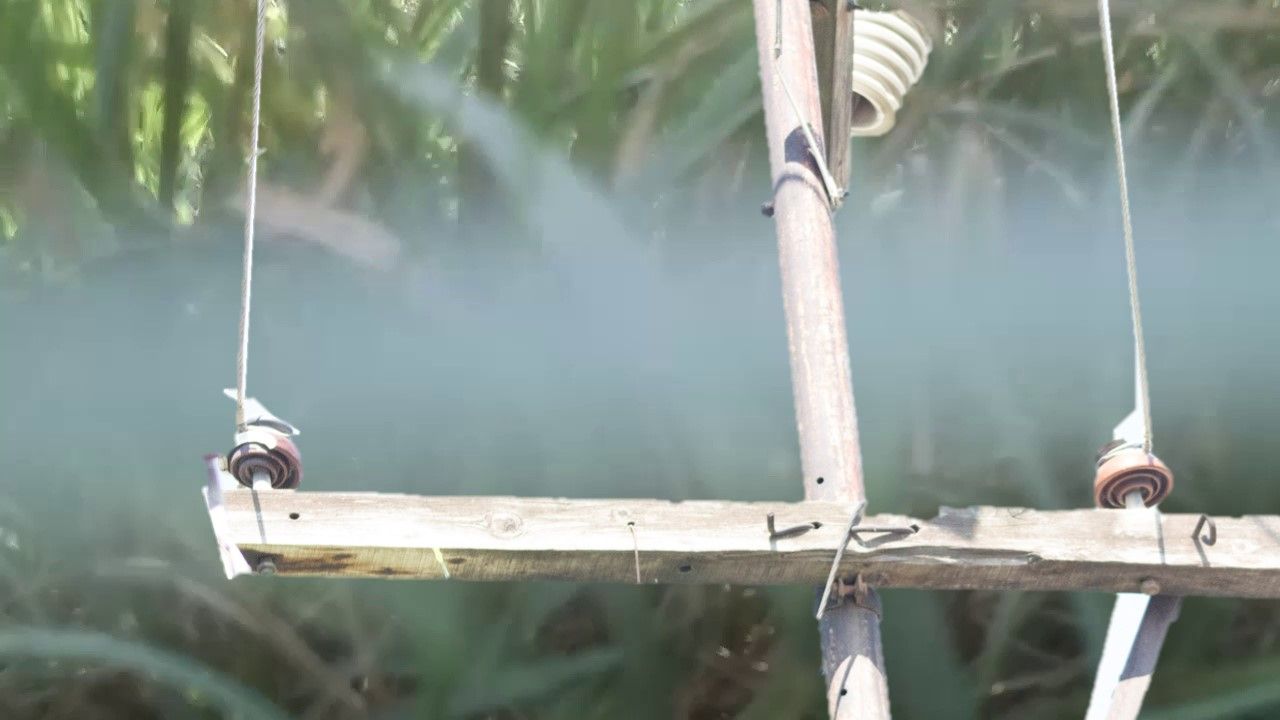defect_pin: (222, 417, 308, 493)
insulator_pin: (1086, 436, 1180, 513)
